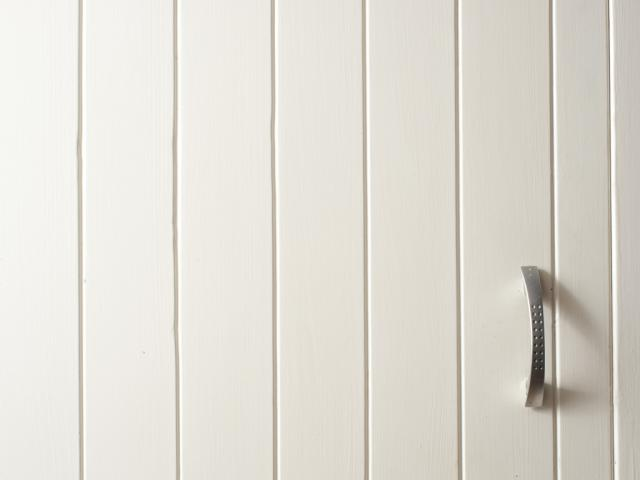Door-handle: (518, 261, 544, 411)
